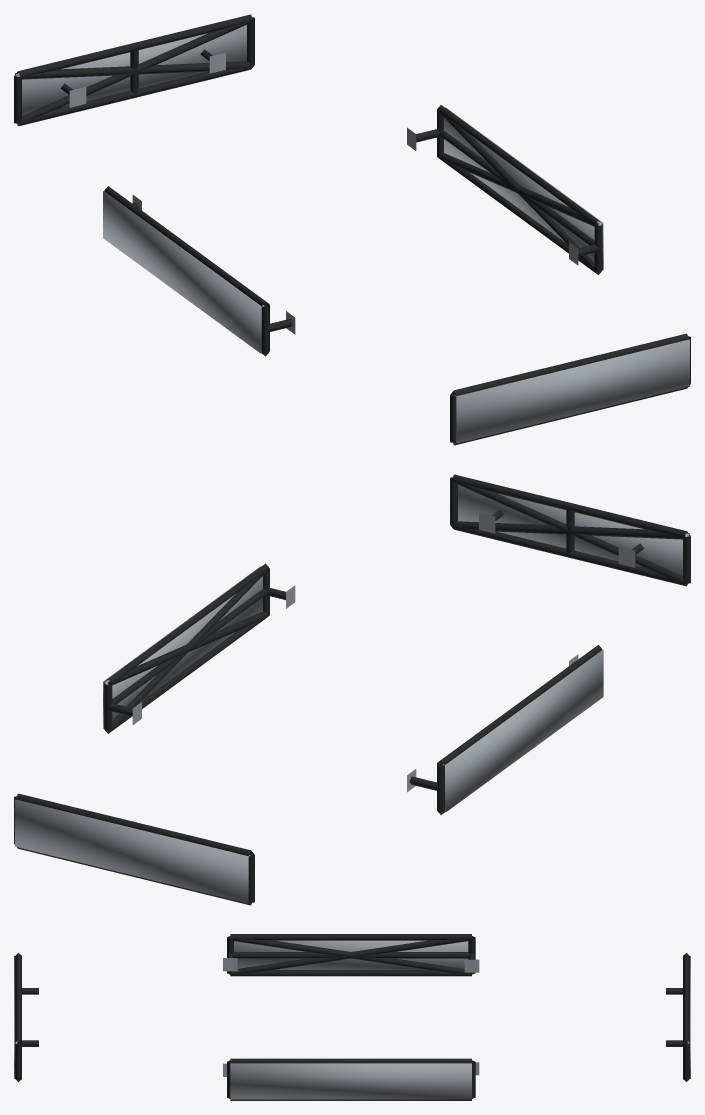
File: cutler_cintila_protecao.glb
3 renders of one model, top to bottom at view 1: azimuth 30°, elevation 25°; view 2: azimuth 150°, elevation 25°; view 3: azimuth 270°, elevation 25°, orthographic. The views are drawn at different scales.
Visible parts, largest first — view 1: Protection_front_Level3_Details, Protection_left_Level3_Details, Protection_rear_Level3_Details, Protection_rear_Level1_Details, Protection_right_Level1_Details, Protection_rear_Level2_Details, Protection_right_Level2_Details, Protection_right_Level3_Details, Protection_front_Level1_Details, Protection_left_Level1_Details; view 2: Protection_rear_Level3_Details, Protection_left_Level3_Details, Protection_front_Level3_Details, Protection_front_Level1_Details, Protection_right_Level1_Details, Protection_front_Level2_Details, Protection_right_Level2_Details, Protection_right_Level3_Details, Protection_rear_Level1_Details, Protection_left_Level1_Details; view 3: Protection_right_Level3_Details, Protection_left_Level2_Details, Protection_left_Level1_Details, Protection_left_Level3_Details, Protection_right_Level1_Details, Protection_rear_Level1_Details, Protection_front_Level1_Details.
Part boxes in pixels (x1,y1,x2,y2): Protection_front_Level3_Details: (454, 339, 689, 443); Protection_left_Level3_Details: (103, 191, 264, 353); Protection_rear_Level3_Details: (15, 25, 246, 115); Protection_rear_Level1_Details: (14, 14, 254, 126); Protection_right_Level1_Details: (407, 105, 602, 274); Protection_rear_Level2_Details: (16, 20, 252, 125); Protection_right_Level2_Details: (437, 110, 601, 274); Protection_right_Level3_Details: (444, 107, 603, 269); Protection_front_Level1_Details: (450, 333, 690, 445); Protection_left_Level1_Details: (104, 186, 295, 356); Protection_rear_Level3_Details: (15, 799, 250, 903); Protection_left_Level3_Details: (442, 650, 603, 812); Protection_front_Level3_Details: (458, 485, 689, 575); Protection_front_Level1_Details: (450, 474, 690, 586); Protection_right_Level1_Details: (104, 563, 295, 733); Protection_front_Level2_Details: (452, 480, 688, 585); Protection_right_Level2_Details: (105, 569, 269, 733); Protection_right_Level3_Details: (103, 566, 262, 728); Protection_rear_Level1_Details: (14, 793, 254, 905); Protection_left_Level1_Details: (407, 645, 602, 814); Protection_right_Level3_Details: (230, 1063, 471, 1099); Protection_left_Level2_Details: (230, 938, 472, 974); Protection_left_Level1_Details: (223, 934, 479, 976); Protection_left_Level3_Details: (234, 940, 468, 969); Protection_right_Level1_Details: (223, 1058, 479, 1100); Protection_rear_Level1_Details: (666, 953, 689, 1081); Protection_front_Level1_Details: (15, 953, 38, 1081).
Bounding box in the file's own units: 2.3 × 0.354 × 5.13.
Materials: 1 (1 with a texture image).
